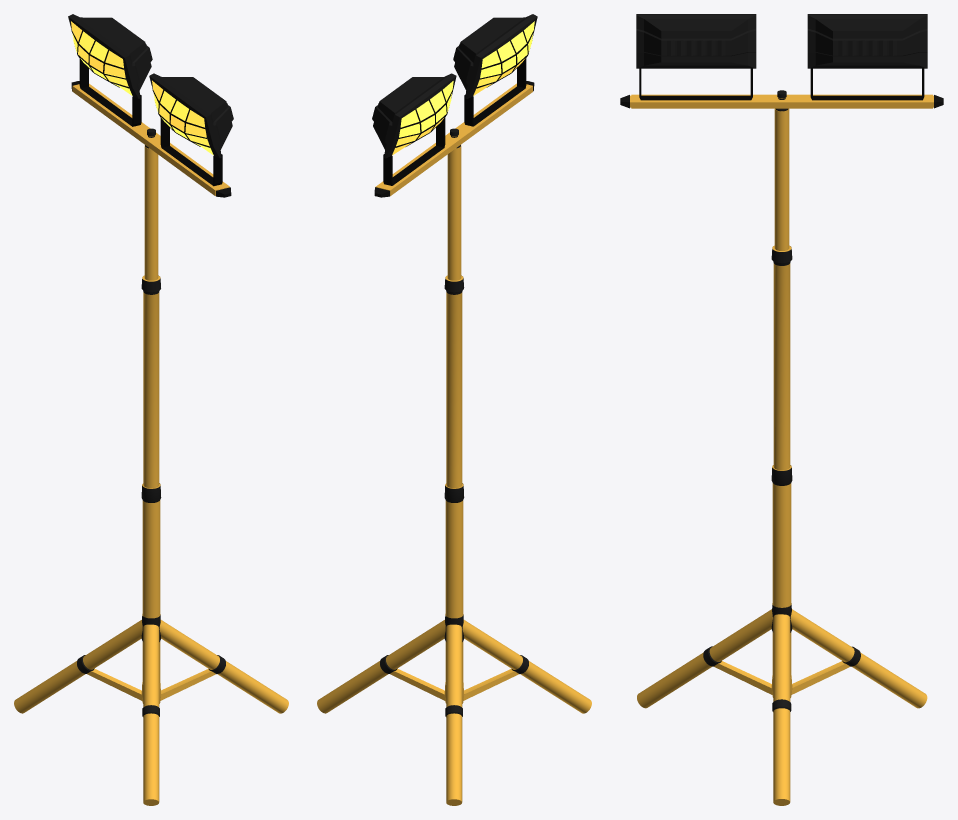
File: site-light.glb
The picture shows the model from 3 angles, left to right: view 1: azimuth 30°, elevation 25°; view 2: azimuth 150°, elevation 25°; view 3: azimuth 270°, elevation 25°; orthographic projection. The views are drawn at different scales.
Visible parts, largest first — view 1: Cube.001, Cylinder.003, Cylinder, Light; view 2: Cube.001, Cylinder.003, Cylinder, Light; view 3: Cube.001, Cylinder.003, Cylinder, Light.
Part boxes in pixels (left/top/right/bottom): Cube.001: left=68, top=14, right=233, bottom=186; Cylinder.003: left=14, top=620, right=288, bottom=805; Cylinder: left=141, top=128, right=161, bottom=703; Light: left=71, top=81, right=231, bottom=197; Cube.001: left=372, top=14, right=537, bottom=185; Cylinder.003: left=317, top=620, right=591, bottom=805; Cylinder: left=444, top=128, right=464, bottom=703; Light: left=374, top=81, right=534, bottom=197; Cube.001: left=636, top=14, right=927, bottom=100; Cylinder.003: left=637, top=609, right=927, bottom=805; Cylinder: left=771, top=90, right=792, bottom=697; Light: left=620, top=94, right=943, bottom=108.
Size of the model in its own units: 2.42 by 7.56 by 3.08.
1 material, 1 textured.
